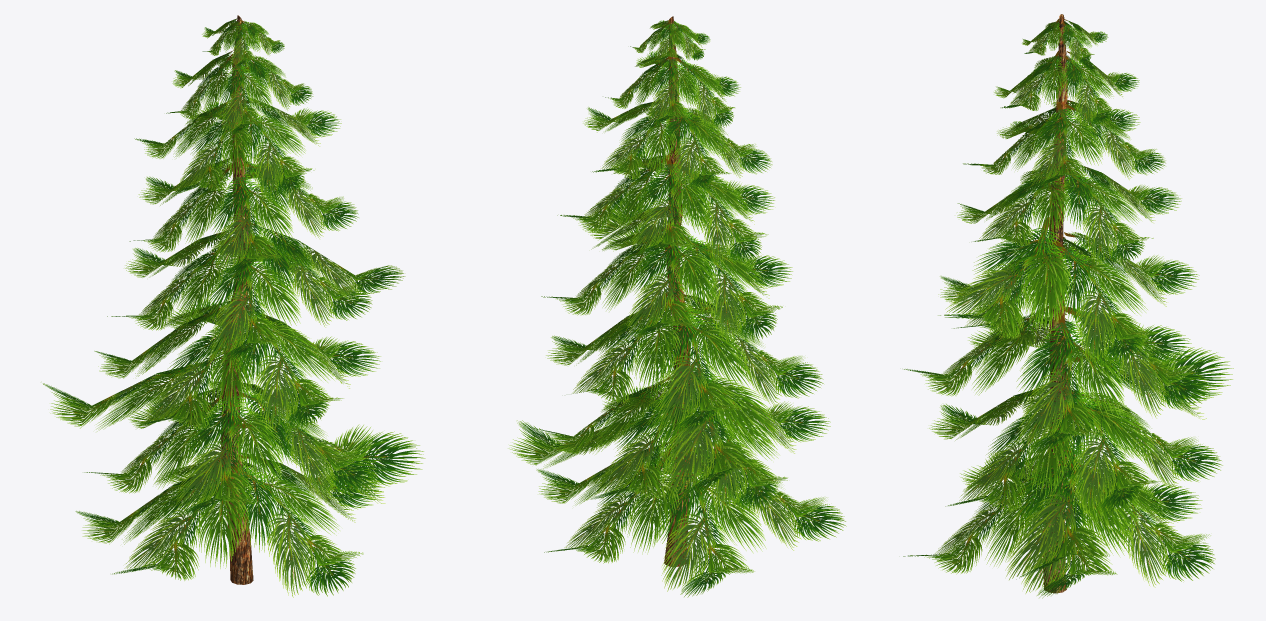
The model's file is PineNew1.fbx.
The picture shows the model from 3 angles, left to right: view 1: azimuth 30°, elevation 25°; view 2: azimuth 150°, elevation 25°; view 3: azimuth 270°, elevation 25°; orthographic projection. The views are drawn at different scales.
Parts seen in each view (by area): view 1: Pine_5; view 2: Pine_5; view 3: Pine_5.
Part boxes in pixels (x1=…): Pine_5: x1=43, y1=15, x2=425, y2=597; Pine_5: x1=508, y1=16, x2=846, y2=597; Pine_5: x1=903, y1=14, x2=1233, y2=598.
Bounding box in the file's own units: 680 × 1031 × 604.
